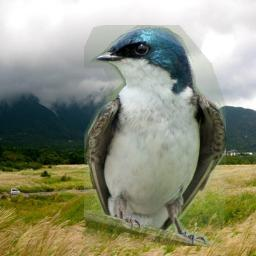Swallow: (84, 25, 226, 246)
